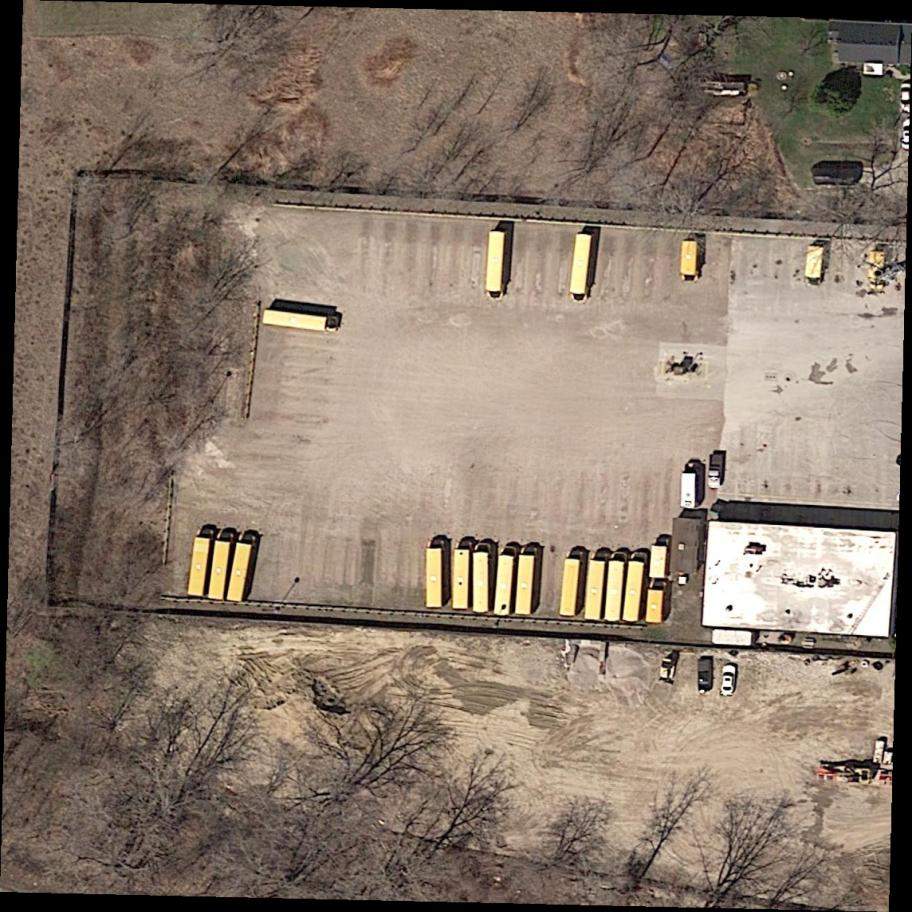large-vehicle: (226, 532, 257, 601), (568, 233, 595, 304), (263, 308, 338, 333), (187, 527, 214, 596), (208, 530, 233, 599), (623, 552, 646, 622), (494, 547, 517, 616), (486, 230, 507, 301), (604, 553, 625, 622), (516, 547, 537, 616), (560, 551, 582, 616), (584, 554, 606, 619), (473, 545, 490, 613), (427, 542, 443, 608), (454, 543, 470, 608), (650, 537, 670, 581), (803, 246, 823, 284), (682, 463, 698, 509), (681, 242, 698, 281)
small-vehicle: (706, 454, 725, 488), (718, 663, 737, 697), (696, 660, 713, 694)
